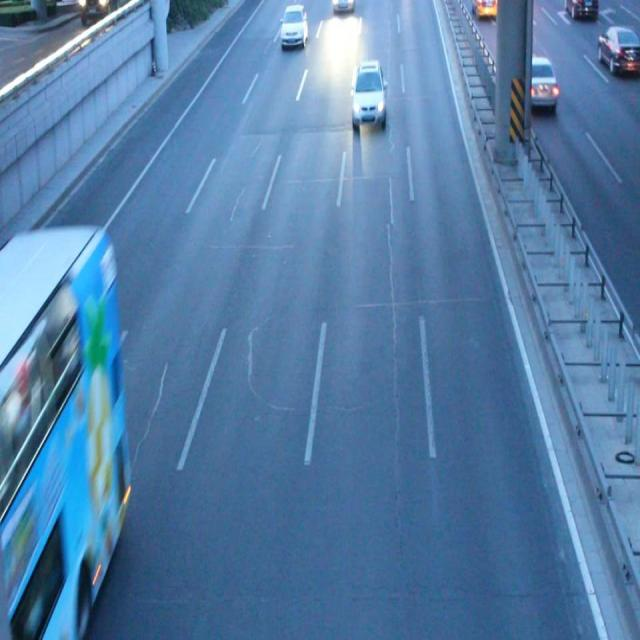car: (594, 24, 640, 78), (351, 64, 386, 126), (520, 56, 556, 111), (280, 1, 307, 49), (564, 1, 595, 19), (471, 1, 498, 19), (332, 2, 355, 15)
van: (0, 227, 129, 640)
